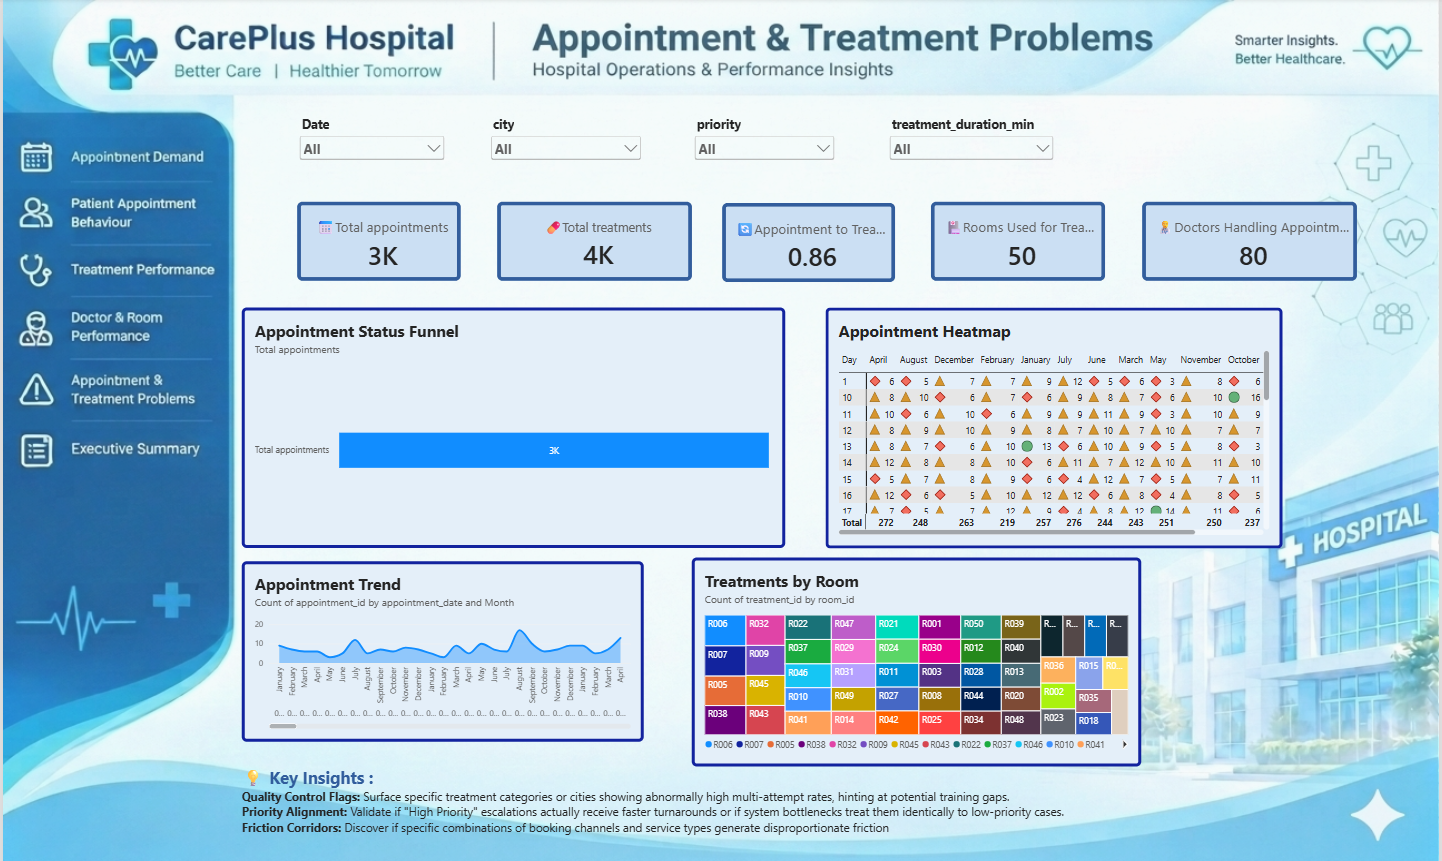

The dashboard page shown, as its layout file describes it:
{"tool":"powerbi","page":{"name":"Appointment & Treatment Problems","canvas":[2300,1400],"ordinal":4},"visuals":[{"type":"cardVisual","fields":{"Data":["_KPI Measures.Total appointments"]},"box":[469.6,321.7,263,128.3],"z":0},{"type":"cardVisual","fields":{"Data":["_KPI Measures.Total treatments"]},"box":[789.1,321.7,313,128.3],"z":1},{"type":"cardVisual","fields":{"Data":["_KPI Measures.Appointment to Treatment Ratio"]},"box":[1150,323.9,278.3,128.3],"z":2},{"type":"cardVisual","fields":{"Data":["_KPI Measures.Rooms Used for Treatments"]},"box":[1484.8,321.7,280.4,128.3],"z":3},{"type":"funnel","title":"Appointment Status Funnel","fields":{"Y":["_KPI Measures.Total appointments"]},"box":[382.6,491.3,869.6,384.8],"z":4},{"type":"pivotTable","title":"Appointment Heatmap","fields":{"Columns":["date_table.Month"],"Rows":["date_table.Day"],"Values":["CountNonNull(appointments.appointment_id)"]},"box":[1316.7,491.7,731.2,385.4],"z":5},{"type":"areaChart","title":"Appointment Trend","fields":{"Category":["appointments.appointment_date","date_table.Month"],"Y":["CountNonNull(appointments.appointment_id)"]},"box":[382.6,897.8,643.5,289.1],"z":6},{"type":"treemap","title":"Treatments by Room","fields":{"Group":["rooms.room_id"],"Values":["CountNonNull(treatments.treatment_id)"]},"box":[1102.2,891.3,719.6,334.8],"z":7},{"type":"slicer","fields":{"Values":["date_table.Date"]},"box":[469.6,184.8,241.3,115.2],"z":8},{"type":"slicer","fields":{"Values":["patients.city"]},"box":[776.1,184.8,250,115.2],"z":9},{"type":"slicer","fields":{"Values":["treatments.treatment_duration_min"]},"box":[1413,184.8,271.7,115.2],"z":10},{"type":"slicer","fields":{"Values":["appointments.priority"]},"box":[1102.2,184.8,232.6,115.2],"z":11},{"type":"cardVisual","fields":{"Data":["_KPI Measures.Doctors Handling Appointments"]},"box":[1821.7,321.7,345.7,128.3],"z":13},{"type":"textbox","box":[382,1226,1332,158],"z":14}]}

Visuals, with their boxes on the page's 2300x1400 design canvas (x1, y1, x2, y2). These are canvas units, not pixel positions in the 1442x861 screenshot, which may show the page scaled, cropped or inside an application window:
cardVisual - _KPI Measures.Total appointments: bbox(470, 322, 733, 450)
cardVisual - _KPI Measures.Total treatments: bbox(789, 322, 1102, 450)
cardVisual - _KPI Measures.Appointment to Treatment Ratio: bbox(1150, 324, 1428, 452)
cardVisual - _KPI Measures.Rooms Used for Treatments: bbox(1485, 322, 1765, 450)
"Appointment Status Funnel" funnel: bbox(383, 491, 1252, 876)
"Appointment Heatmap" pivotTable: bbox(1317, 492, 2048, 877)
"Appointment Trend" areaChart: bbox(383, 898, 1026, 1187)
"Treatments by Room" treemap: bbox(1102, 891, 1822, 1226)
slicer - date_table.Date: bbox(470, 185, 711, 300)
slicer - patients.city: bbox(776, 185, 1026, 300)
slicer - treatments.treatment_duration_min: bbox(1413, 185, 1685, 300)
slicer - appointments.priority: bbox(1102, 185, 1335, 300)
cardVisual - _KPI Measures.Doctors Handling Appointments: bbox(1822, 322, 2167, 450)
textbox: bbox(382, 1226, 1714, 1384)
